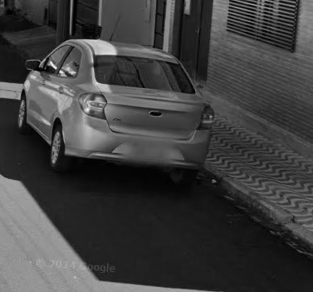car: (14, 12, 221, 194)
